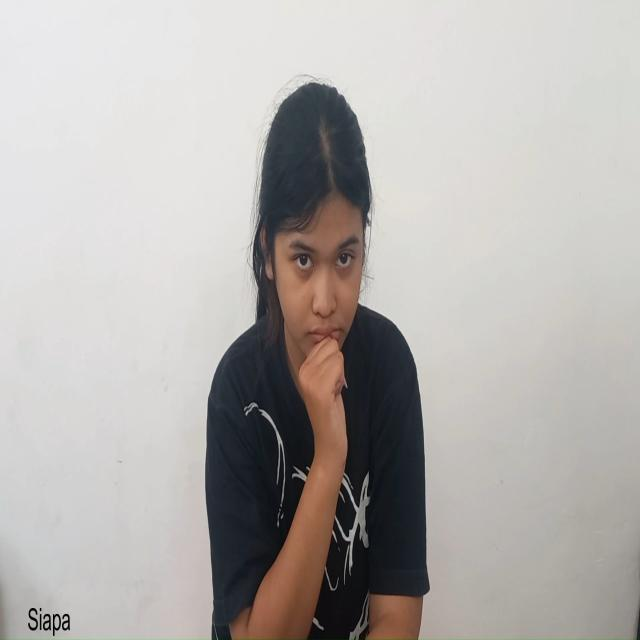Siapa -BISINDO-: (256, 76, 374, 474)
